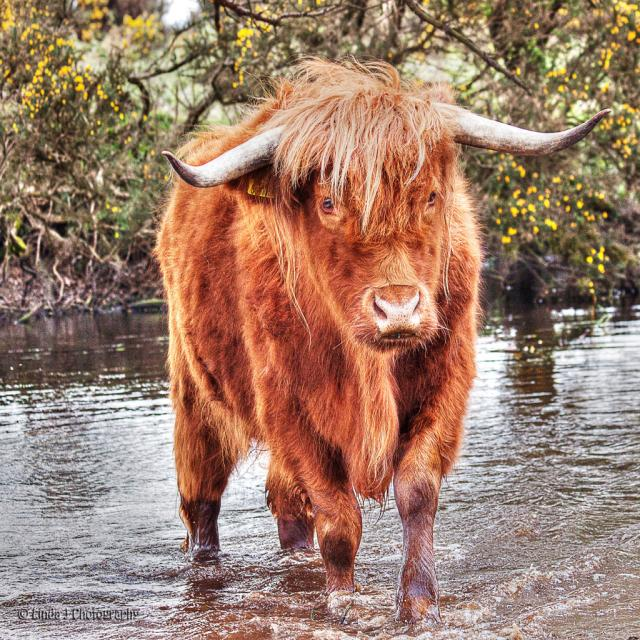Cattle: (146, 53, 612, 626)
